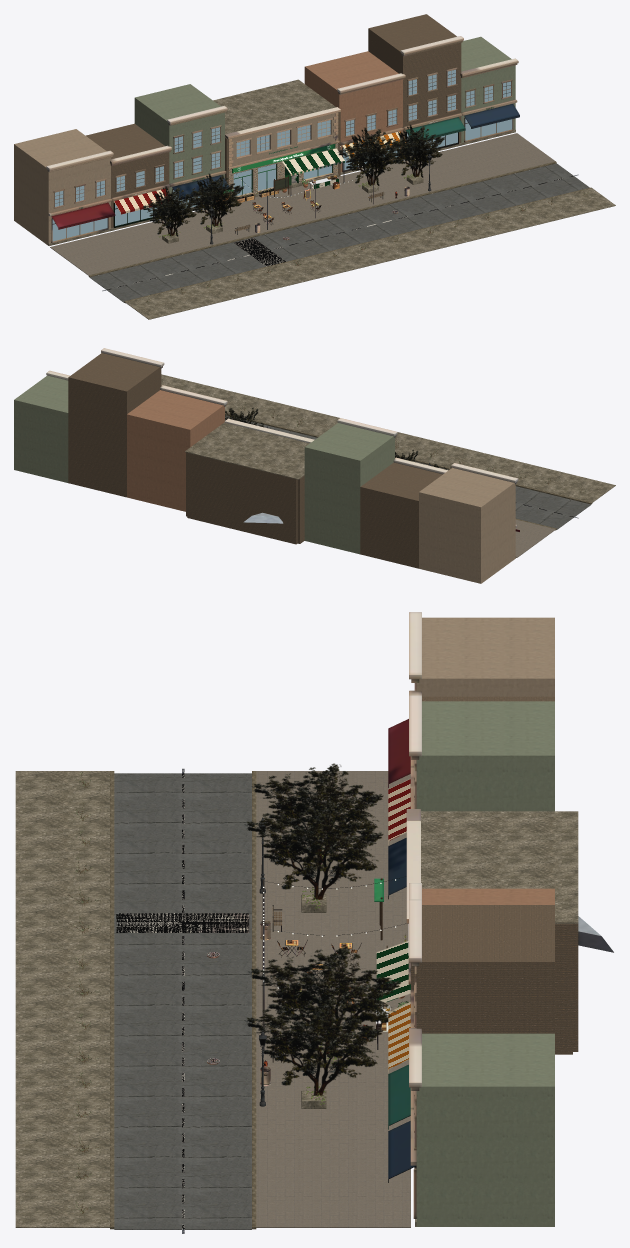
Rendered from kitchen.glb.
3 views of the same model, one above another, from view 1: azimuth 30°, elevation 25°; view 2: azimuth 150°, elevation 25°; view 3: azimuth 270°, elevation 25° (orthographic). The views are drawn at different scales.
Visible parts, largest first — view 1: ground_tile, neigh_tile, neigh_color, shell_tile, neigh_glass, shell_color, glass_glass, props_tile, Tree1_0, Tree0_0, Tree3_0, props_color (+8 smaller); view 2: neigh_tile, shell_tile, ground_tile, neigh_color, shell_color; view 3: ground_tile, neigh_tile, shell_tile, neigh_color, Tree1_90, Tree0_90, Tree3_90, Tree2_90, ground_color, props_tile, props_color, shell_color (+2 smaller).
Part boxes in pixels (box(x1,y1,x2,y2)): ground_tile: box(50, 133, 615, 319); neigh_tile: box(14, 14, 515, 245); neigh_color: box(46, 36, 519, 243); shell_tile: box(213, 79, 340, 202); neigh_glass: box(52, 69, 512, 241); shell_color: box(225, 107, 340, 197); glass_glass: box(233, 120, 331, 196); props_tile: box(162, 148, 423, 243); Tree1_0: box(337, 129, 399, 185); Tree0_0: box(184, 175, 244, 226); Tree3_0: box(385, 126, 444, 177); props_color: box(224, 144, 409, 240); neigh_tile: box(14, 353, 515, 583); shell_tile: box(185, 422, 309, 544); ground_tile: box(161, 374, 615, 557); neigh_color: box(46, 348, 519, 531); shell_color: box(224, 418, 314, 443); ground_tile: box(15, 771, 410, 1229); neigh_tile: box(388, 617, 554, 1226); shell_tile: box(410, 811, 578, 1054); neigh_color: box(388, 612, 421, 1218); Tree1_90: box(248, 945, 401, 1054); Tree0_90: box(244, 800, 383, 899); Tree3_90: box(244, 996, 383, 1095); Tree2_90: box(251, 763, 383, 857); ground_color: box(116, 768, 249, 1233); props_tile: box(272, 853, 410, 1108); props_color: box(207, 876, 407, 1086); shell_color: box(406, 809, 420, 984).
Bounding box in the file's own units: 61.2 × 13.77 × 33.31.
Materials: 44 (36 with a texture image).
